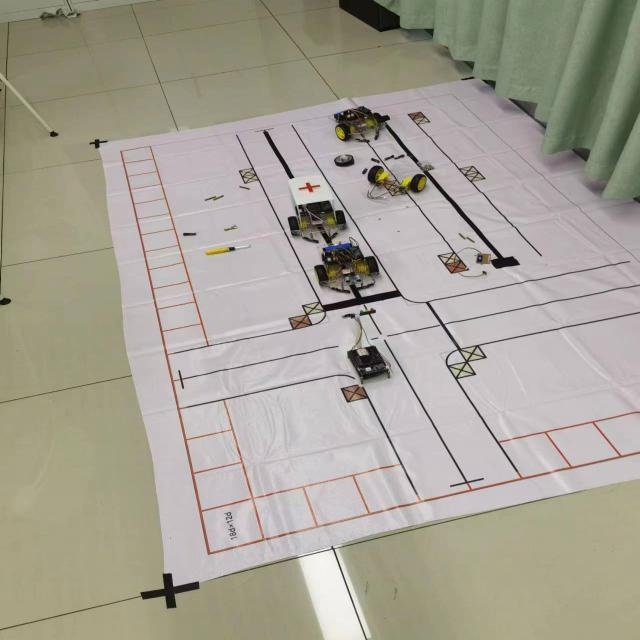RedCross: (296, 180, 322, 194)
